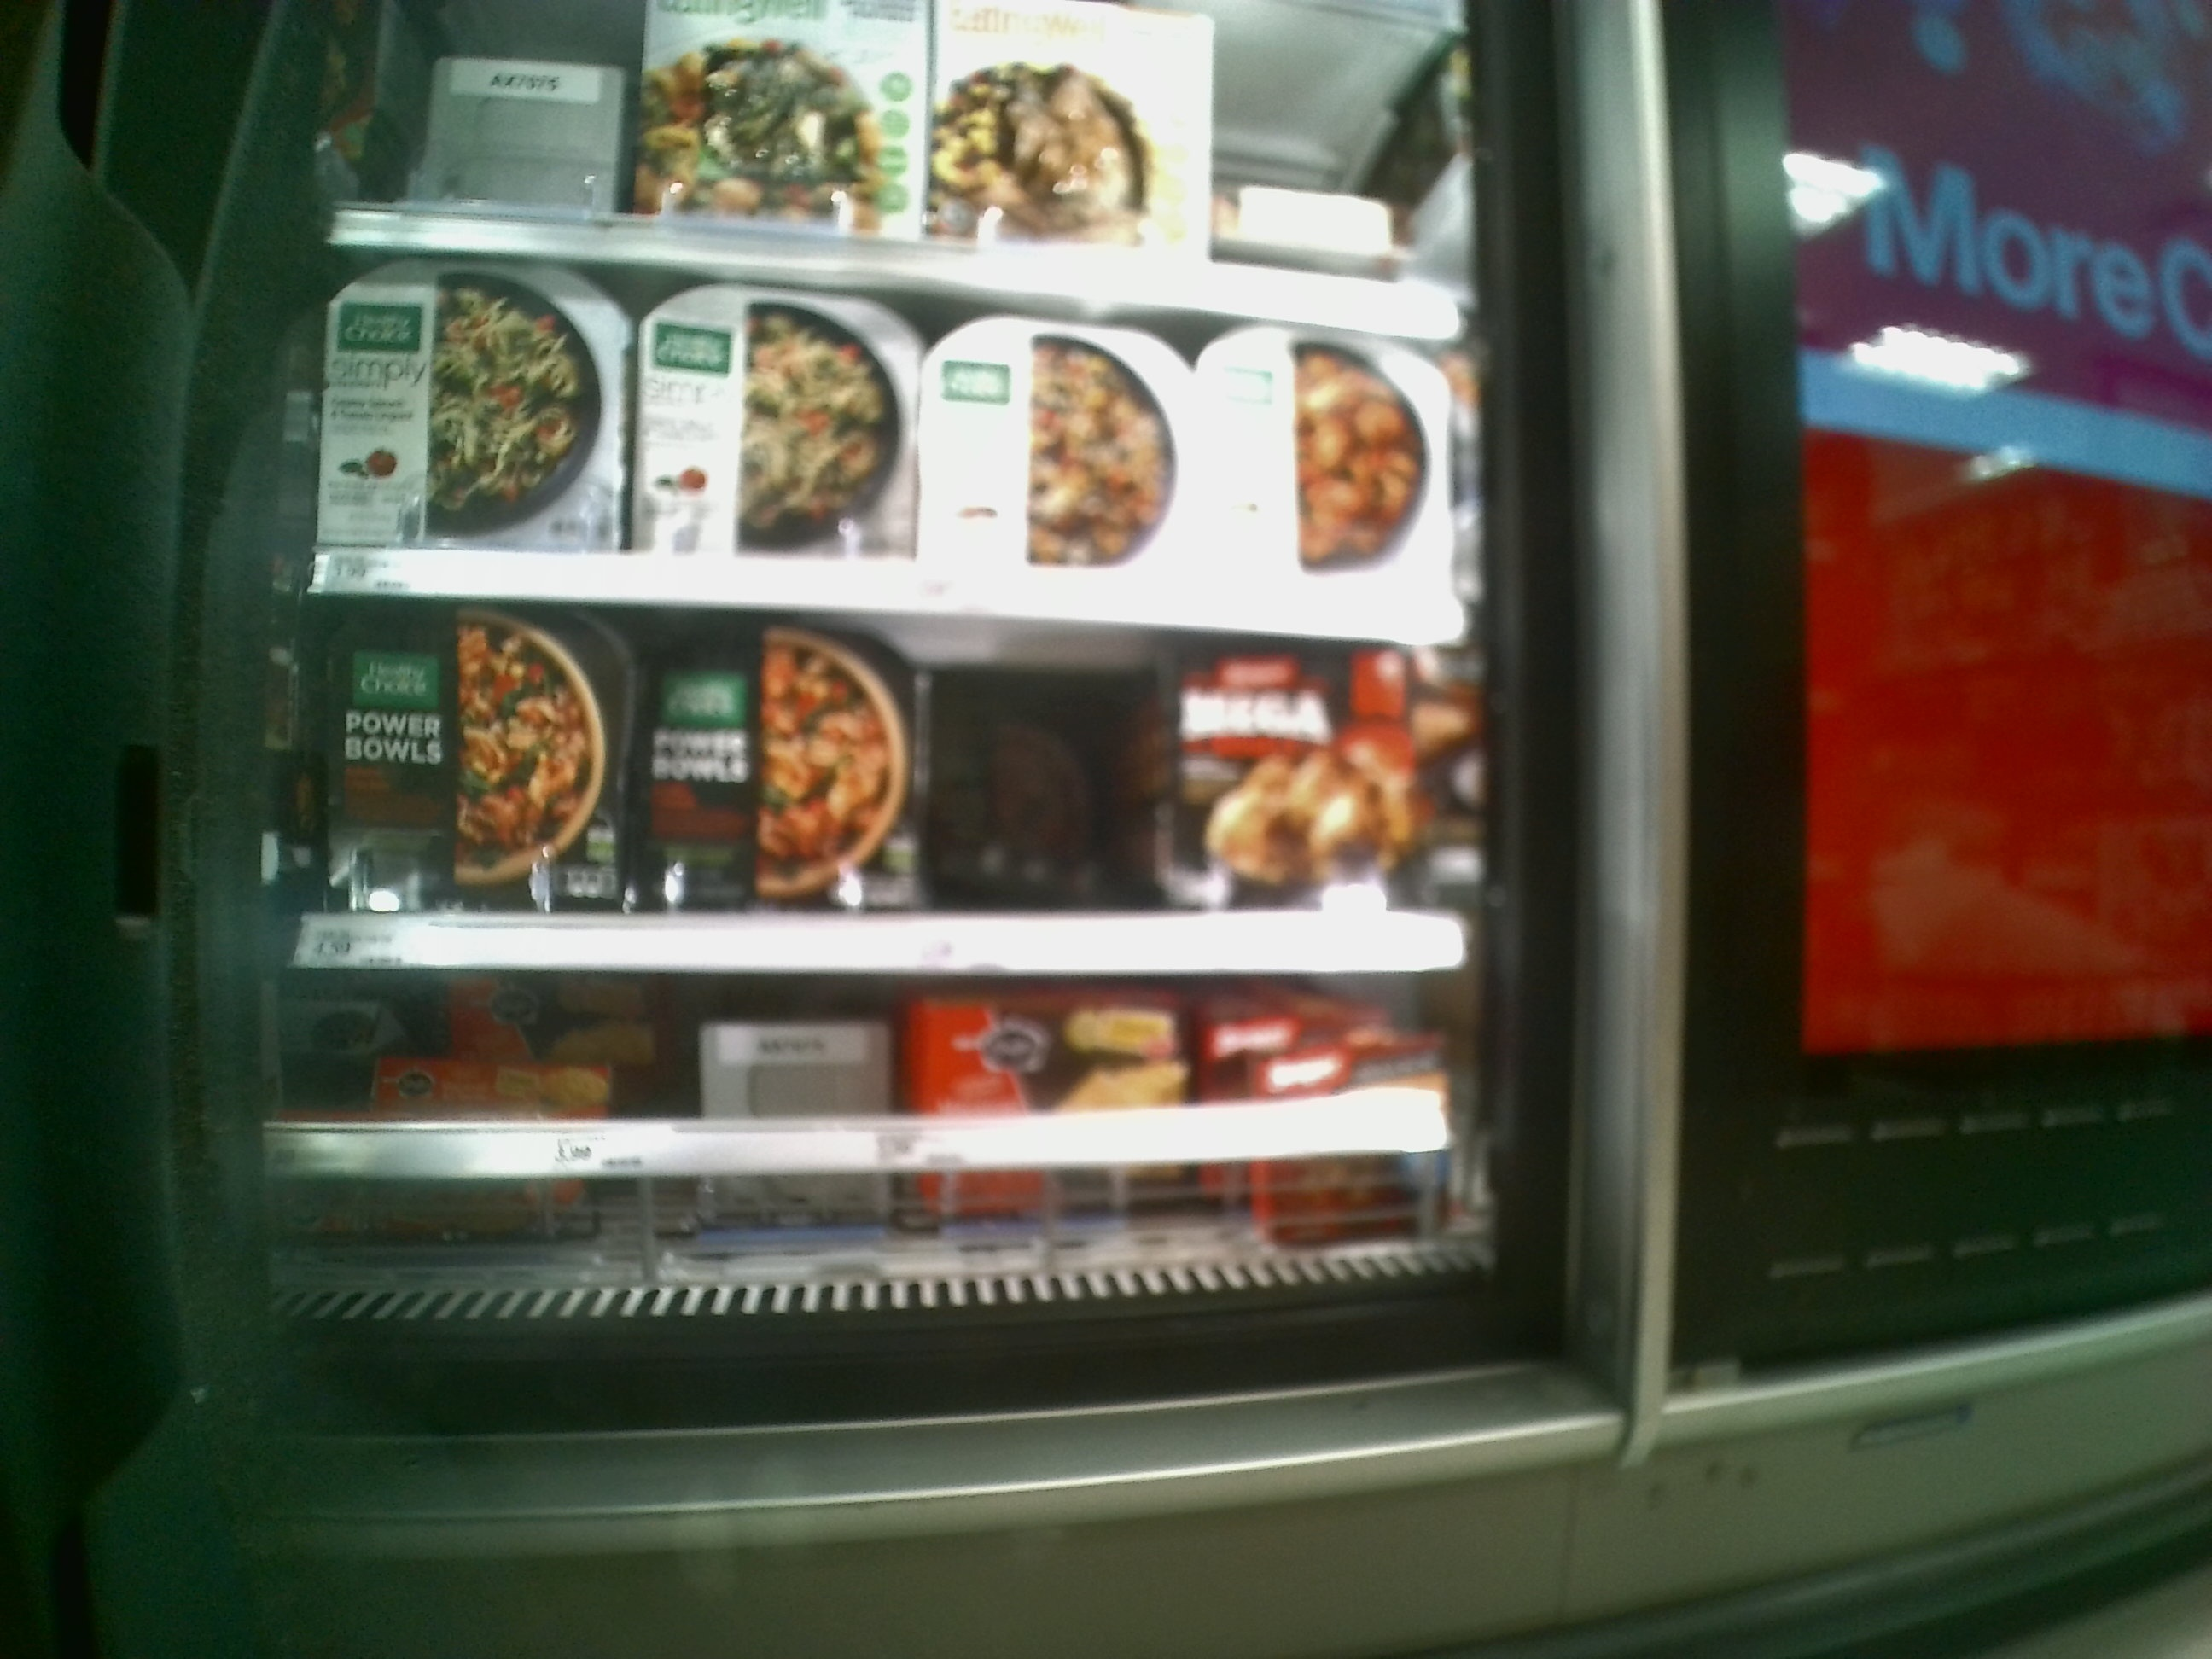shelf: (289, 962, 1521, 1356), (315, 232, 1470, 633), (284, 596, 1486, 972)
